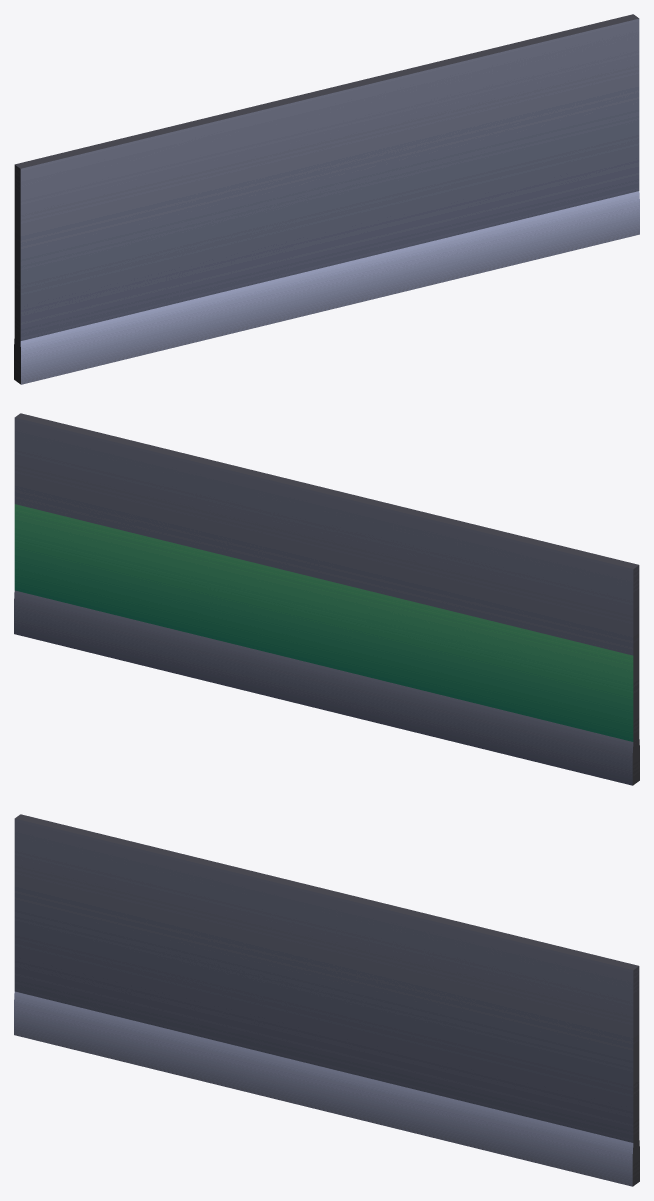
Rendered from wall.047_lev2.glb.
3 renders of one model, top to bottom at view 1: azimuth 30°, elevation 25°; view 2: azimuth 150°, elevation 25°; view 3: azimuth 330°, elevation 25°, orthographic.
Visible parts, largest first — view 1: wall.047_lev2; view 2: wall.047_lev2; view 3: wall.047_lev2.
Part boxes in pixels (x1,y1,x2,y2): wall.047_lev2: (14,14,639,384); wall.047_lev2: (14,413,639,785); wall.047_lev2: (14,814,639,1186).
Size of the model in its own units: 12 by 4 by 0.2644.
1 material, 1 textured.
